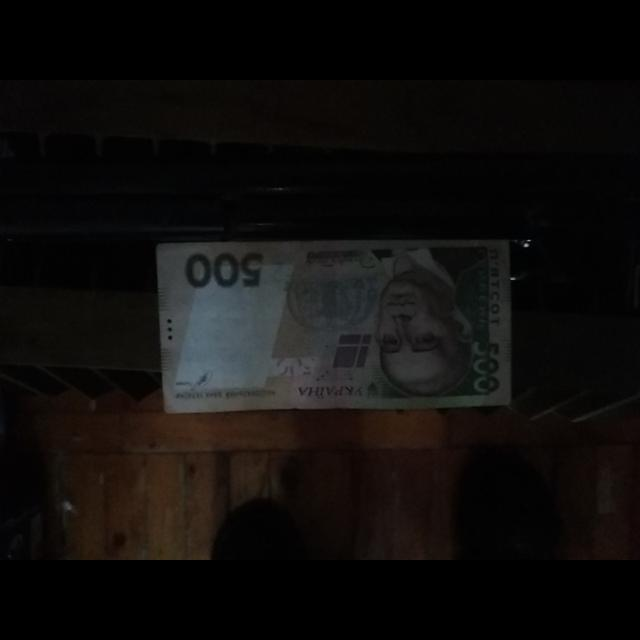500uah: (156, 241, 512, 414)
